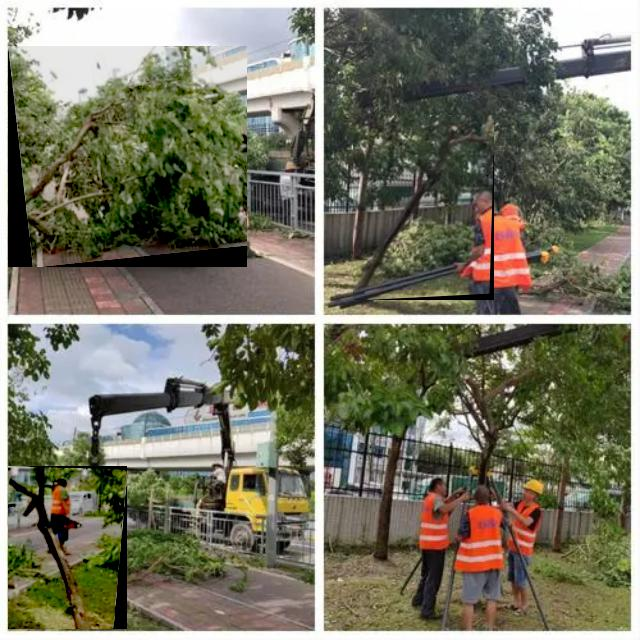Fallen Tree: (8, 46, 248, 268), (353, 115, 495, 301), (8, 466, 128, 630)
